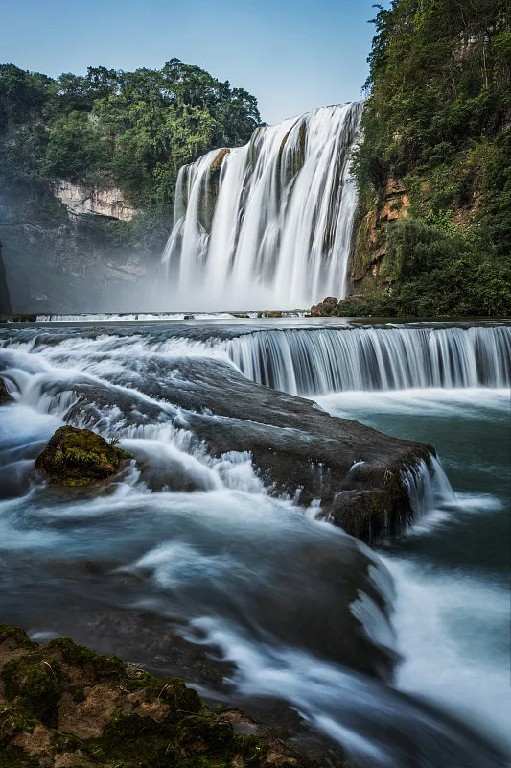Huangguoshu: (162, 102, 358, 311)
